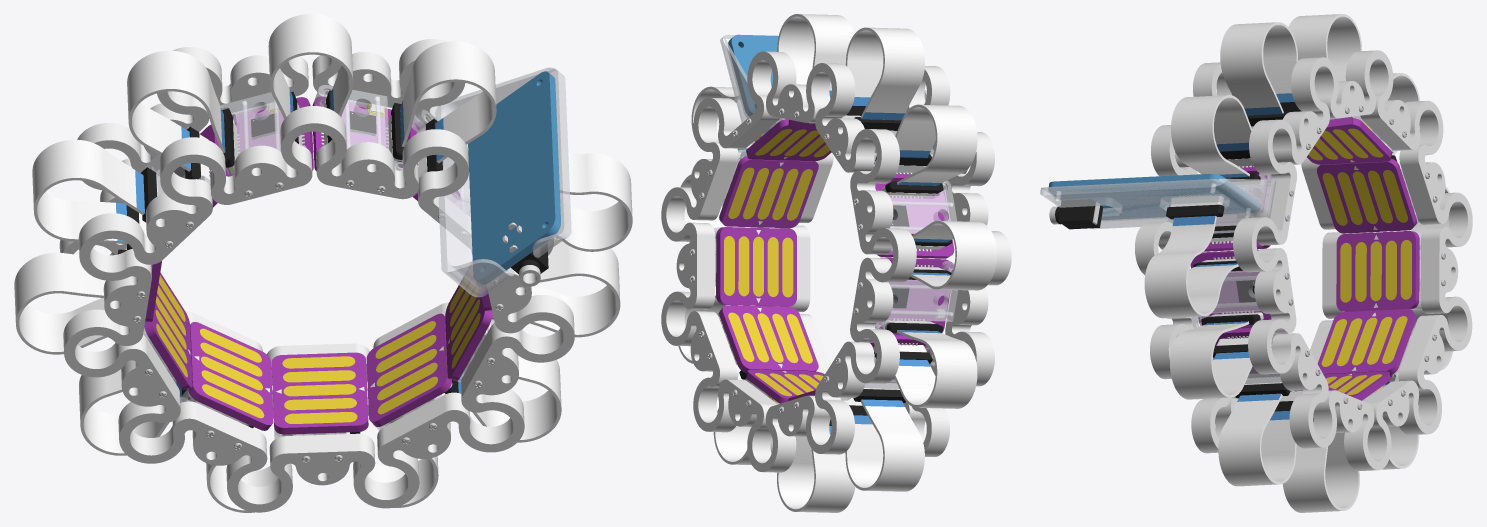
File: bracelet_one.glb
3 views of the same model, side by side, from view 1: azimuth 30°, elevation 25°; view 2: azimuth 150°, elevation 25°; view 3: azimuth 270°, elevation 25° (orthographic). The views are drawn at different scales.
Parts seen in each view (by area): view 1: Part 1.042, Part 1.059, Part 1.047, Part 1.070, Part 1.020, Part 1.051, Part 1.034, Part 1.001, Part 1.006, Part 1.049, Part 1.035, Part 1.036 (+16 smaller); view 2: Part 1.059, Part 1.042, Part 1.018, Part 1.044, Part 1.028, Part 1.011, Part 1.034, Part 1.049, Part 1.036, Part 1.016, Part 1.051, Part 1.006 (+17 smaller); view 3: Part 1.059, Part 1.042, Part 1.020, Part 1.025, Part 1.035, Part 1.002, Part 1.044, Part 1.013, Part 1.047, Part 1.006, Part 1.001, Part 1.019 (+14 smaller).
Boxes of the visible parts, bbox=[...] form: Part 1.042: bbox=[63, 106, 574, 512]; Part 1.059: bbox=[59, 39, 493, 417]; Part 1.047: bbox=[468, 71, 560, 284]; Part 1.070: bbox=[271, 352, 368, 434]; Part 1.020: bbox=[435, 67, 571, 297]; Part 1.051: bbox=[32, 139, 144, 244]; Part 1.034: bbox=[366, 313, 451, 426]; Part 1.001: bbox=[188, 322, 273, 430]; Part 1.006: bbox=[400, 41, 496, 163]; Part 1.049: bbox=[127, 50, 225, 171]; Part 1.035: bbox=[556, 152, 632, 251]; Part 1.036: bbox=[14, 252, 107, 354]; Part 1.059: bbox=[661, 51, 916, 472]; Part 1.042: bbox=[757, 66, 1011, 456]; Part 1.018: bbox=[716, 227, 796, 306]; Part 1.044: bbox=[845, 27, 924, 120]; Part 1.028: bbox=[845, 399, 924, 491]; Part 1.011: bbox=[719, 156, 818, 228]; Part 1.034: bbox=[719, 305, 818, 372]; Part 1.049: bbox=[895, 104, 977, 185]; Part 1.036: bbox=[894, 330, 977, 408]; Part 1.016: bbox=[777, 426, 855, 512]; Part 1.051: bbox=[910, 221, 996, 290]; Part 1.006: bbox=[777, 14, 854, 98]; Part 1.059: bbox=[1233, 50, 1472, 470]; Part 1.042: bbox=[1135, 62, 1374, 453]; Part 1.020: bbox=[1040, 178, 1276, 229]; Part 1.025: bbox=[1336, 231, 1419, 311]; Part 1.035: bbox=[1144, 215, 1238, 318]; Part 1.002: bbox=[1218, 393, 1296, 486]; Part 1.044: bbox=[1220, 22, 1298, 115]; Part 1.013: bbox=[1317, 158, 1416, 233]; Part 1.047: bbox=[1048, 174, 1260, 219]; Part 1.006: bbox=[1171, 95, 1251, 177]; Part 1.001: bbox=[1317, 309, 1416, 374]; Part 1.019: bbox=[1170, 321, 1252, 399].
Bounding box in the file's own units: 0.104 × 0.1105 × 0.0973.
